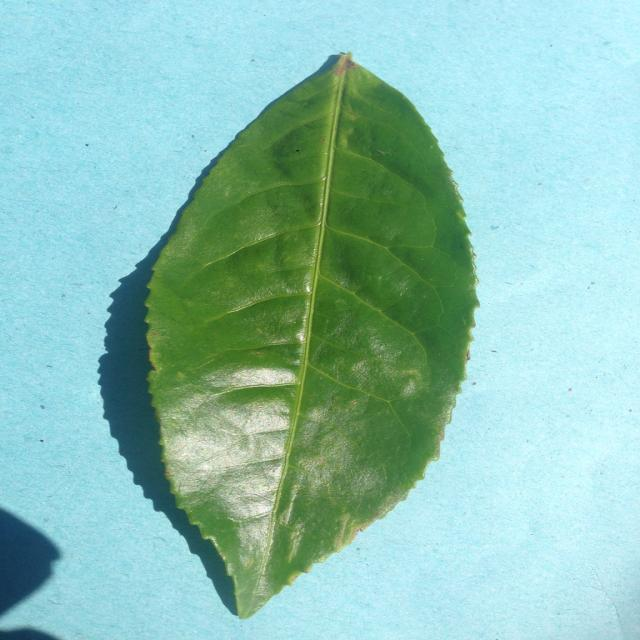Healthy: (71, 45, 492, 624)
